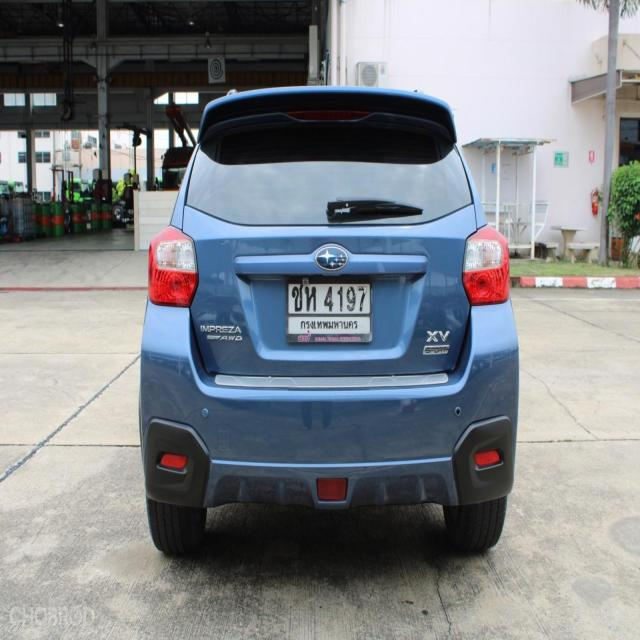license_plate: (286, 277, 373, 344)
